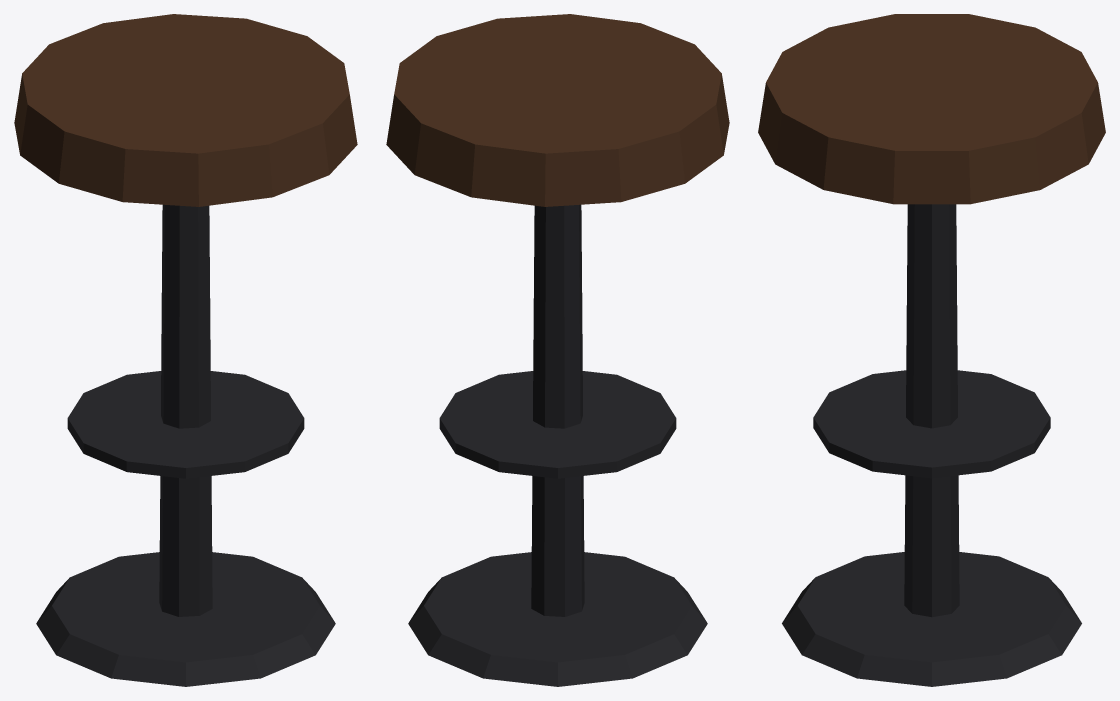
The model's file is stool.glb.
3 views of the same model, side by side, from view 1: azimuth 30°, elevation 25°; view 2: azimuth 150°, elevation 25°; view 3: azimuth 270°, elevation 25° (orthographic).
Visible parts, largest first — view 1: stoolLeg, stool; view 2: stoolLeg, stool; view 3: stoolLeg, stool.
Boxes of the visible parts, x1,y1,x2,y2 form: stoolLeg: [36, 204, 335, 686]; stool: [14, 14, 357, 206]; stoolLeg: [408, 204, 707, 686]; stool: [386, 14, 729, 206]; stoolLeg: [782, 204, 1081, 686]; stool: [758, 14, 1105, 204].
Bounding box in the file's own units: 0.429 × 0.755 × 0.44.
